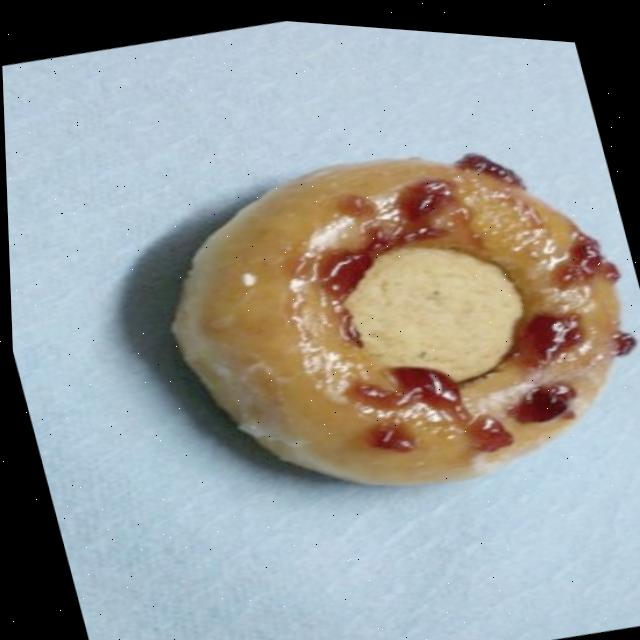炸货点心: (125, 90, 640, 538)
